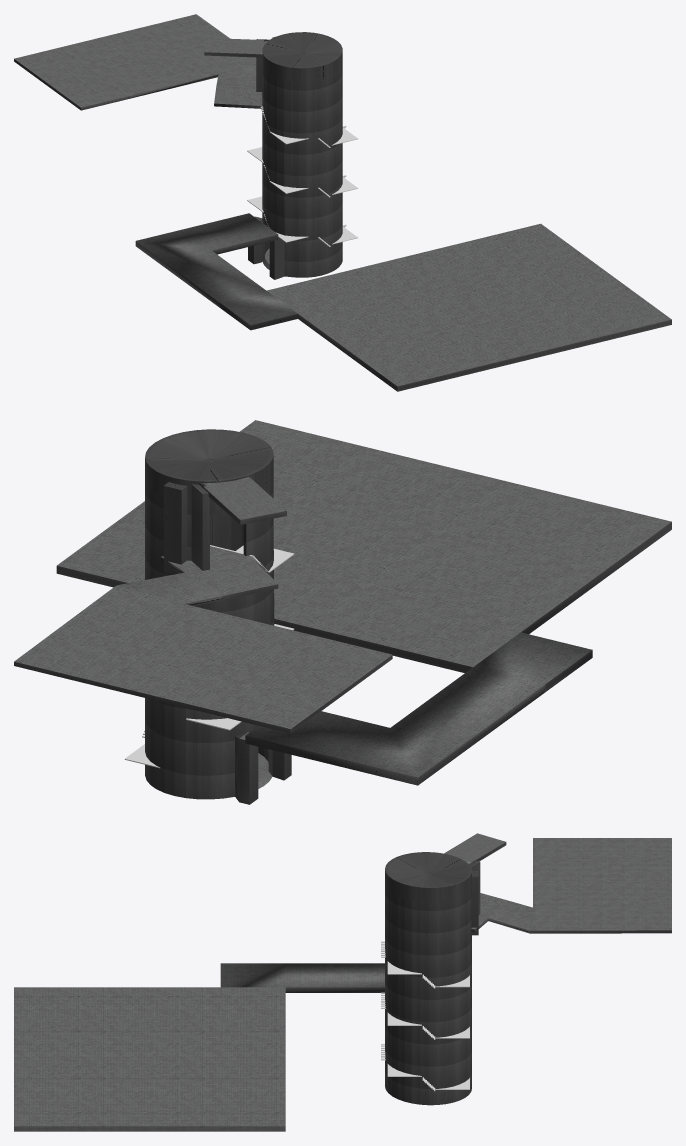
The model's file is SpiralStaircase2.fbx.
3 views of the same model, one above another, from view 1: azimuth 30°, elevation 25°; view 2: azimuth 150°, elevation 25°; view 3: azimuth 270°, elevation 25° (orthographic). The views are drawn at different scales.
Parts seen in each view (by area): view 1: Cube__229__1_001, Cube__215__2; view 2: Cube__229__1_001, Cube__215__2, Cube, Cube__218__2; view 3: Cube__229__1_001, Cube__215__2, Cube.
Part boxes in pixels (x1,y1,x2,y2): Cube__229__1_001: (135,32,671,391); Cube__215__2: (14,14,262,110); Cube__229__1_001: (56,420,671,804); Cube__215__2: (14,546,392,733); Cube: (163,459,223,574); Cube__218__2: (191,484,209,570); Cube__229__1_001: (14,833,506,1131); Cube__215__2: (471,838,671,933); Cube: (425,871,478,935).
Bounding box in the file's own units: 5764 × 3400 × 9302.
